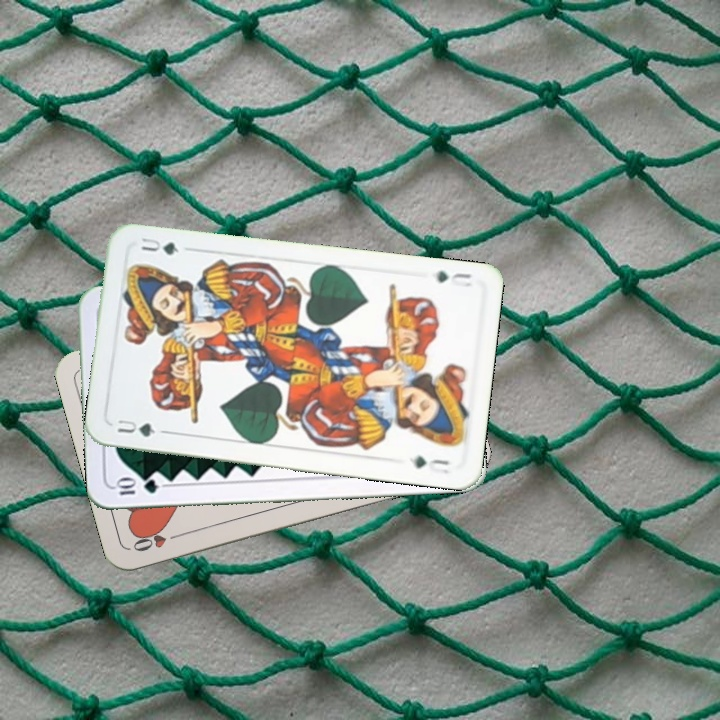G10: (111, 476, 161, 498)
GU: (113, 415, 168, 440), (431, 267, 474, 290)
HO: (128, 526, 186, 554)
